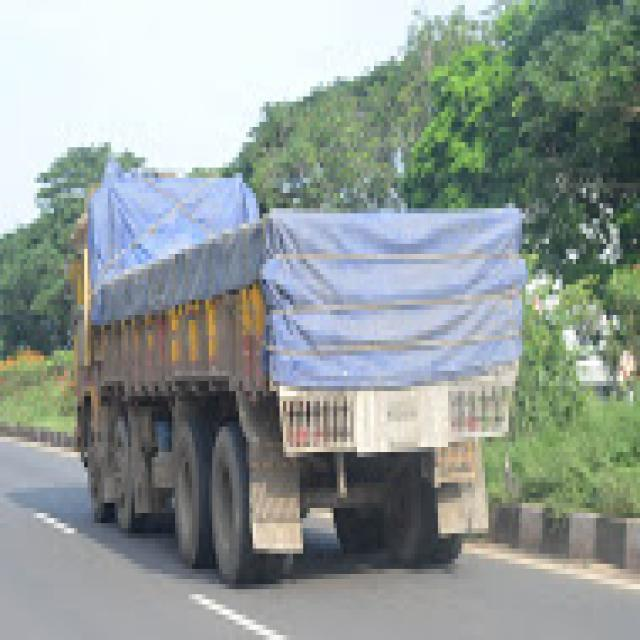truck_back: (62, 134, 530, 592)
